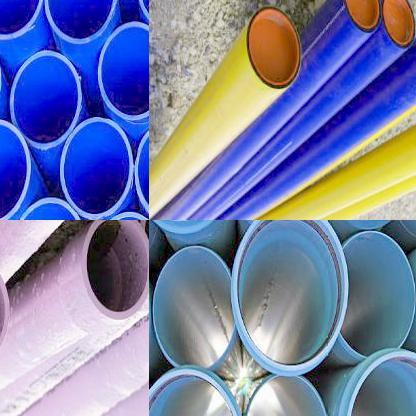pipe: (232, 220, 348, 369), (153, 246, 235, 367), (339, 231, 416, 358), (60, 116, 133, 220), (10, 50, 82, 149), (81, 220, 149, 320), (98, 21, 149, 122), (344, 350, 416, 416), (247, 6, 300, 90), (149, 370, 244, 416), (246, 374, 329, 416), (44, 0, 118, 45), (0, 119, 32, 220), (0, 0, 45, 41), (10, 196, 86, 220), (381, 0, 416, 49), (343, 0, 381, 33)
